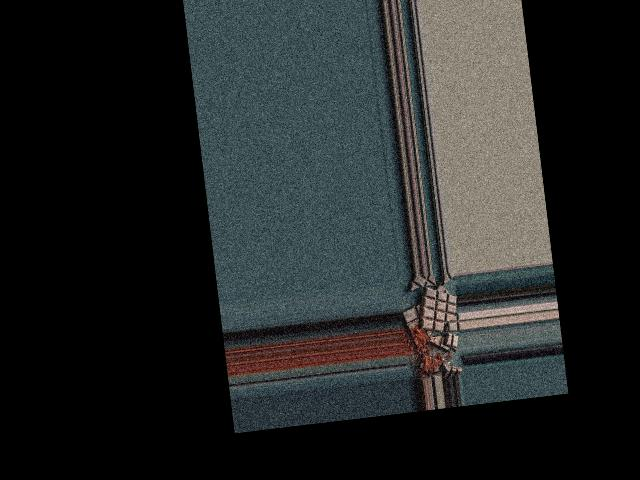chocolate: (415, 282, 460, 333)
